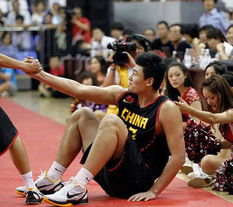10+: (1, 1, 233, 206)
down: (10, 49, 189, 204)
